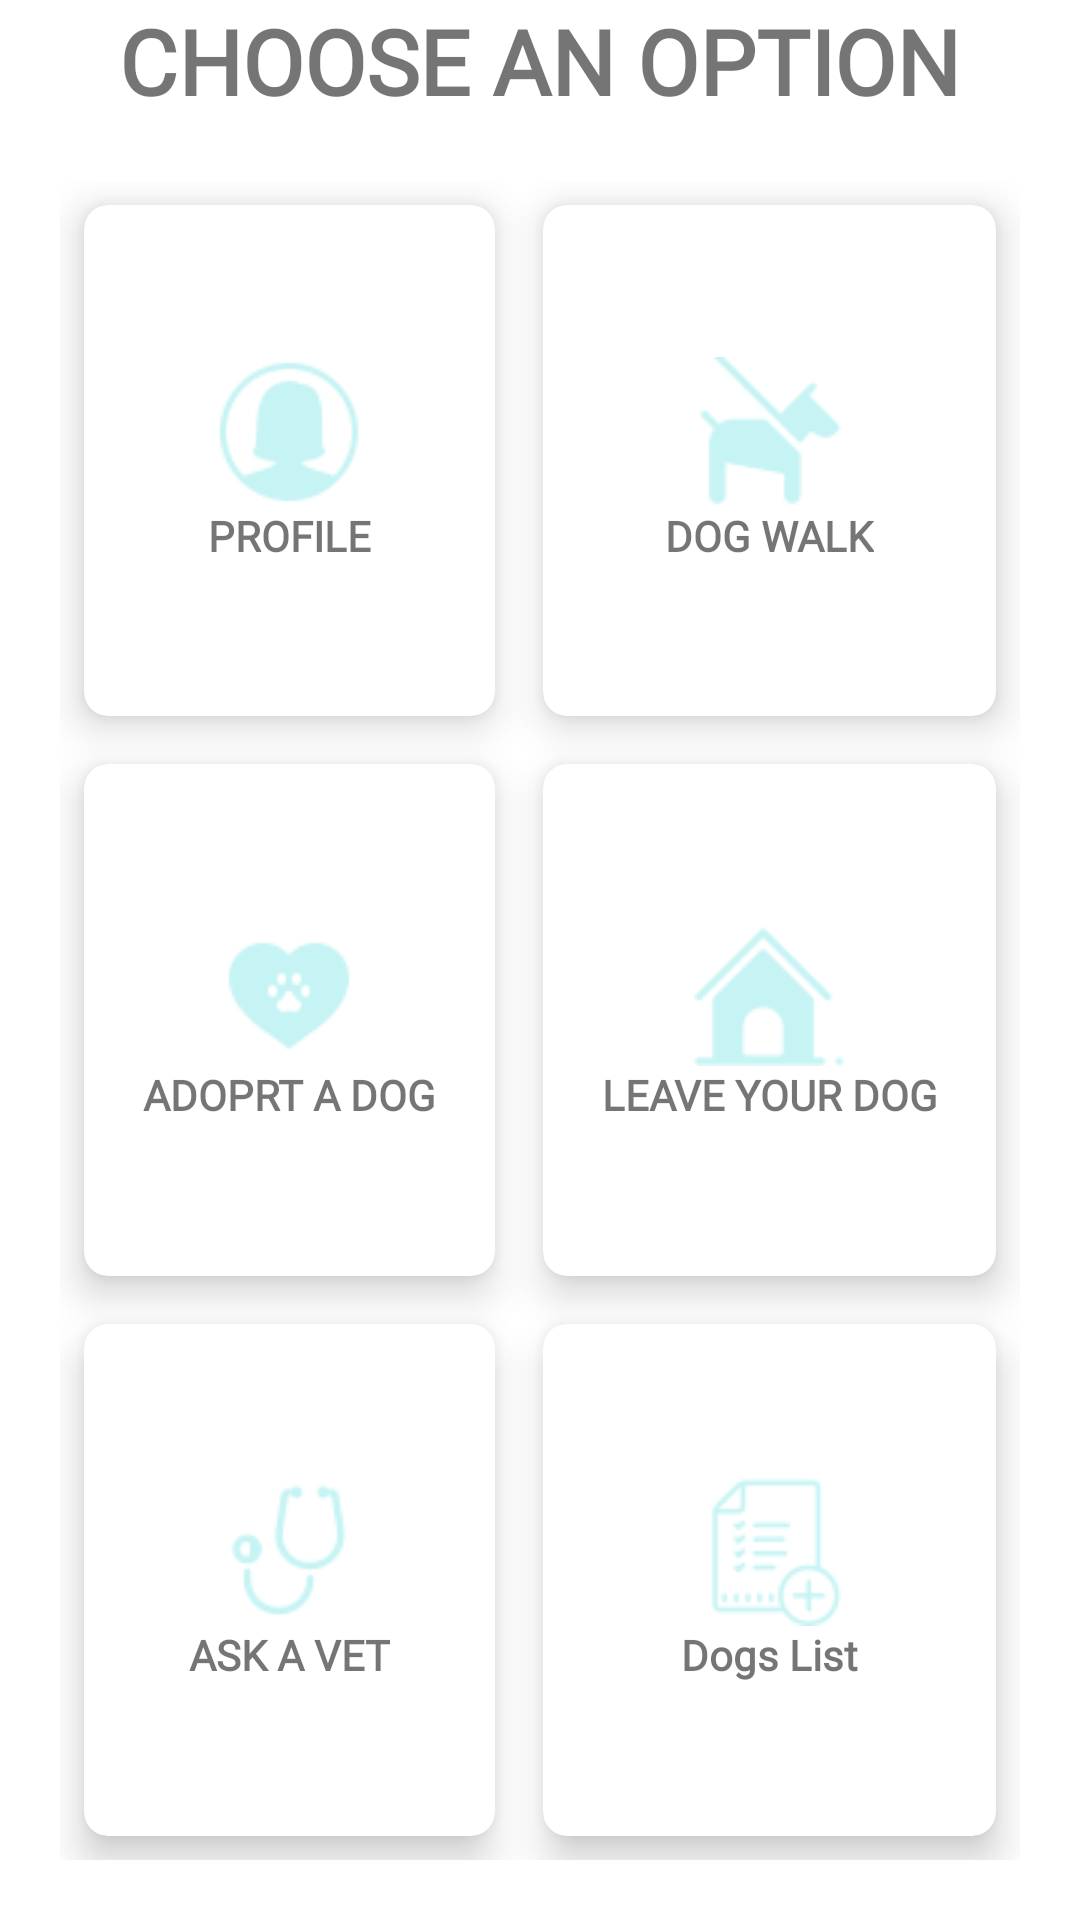

Where icons sit on this 1080px x 1920px app screen, as (x1, y1, x2, y2):
doctor: (232, 1486, 345, 1615)
foster: (694, 929, 844, 1066)
